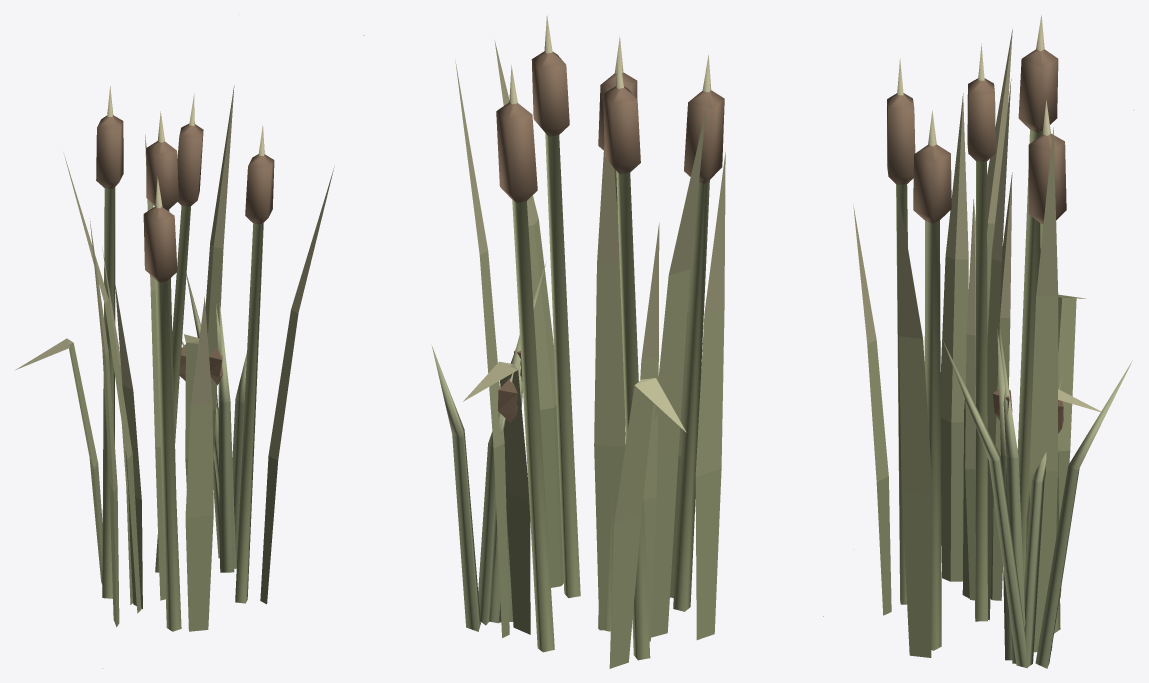
File: ReedClump1_lite_leaf.glb
The picture shows the model from 3 angles, left to right: view 1: azimuth 30°, elevation 25°; view 2: azimuth 150°, elevation 25°; view 3: azimuth 270°, elevation 25°; orthographic projection. The views are drawn at different scales.
Parts seen in each view (by area): view 1: ReedClump1_lite_leaf; view 2: ReedClump1_lite_leaf; view 3: ReedClump1_lite_leaf.
Part boxes in pixels (bbox=[...]): ReedClump1_lite_leaf: bbox=[15, 14, 334, 668]; ReedClump1_lite_leaf: bbox=[363, 15, 823, 668]; ReedClump1_lite_leaf: bbox=[853, 15, 1134, 668].
Size of the model in its own units: 3.94 by 7.34 by 3.2.
